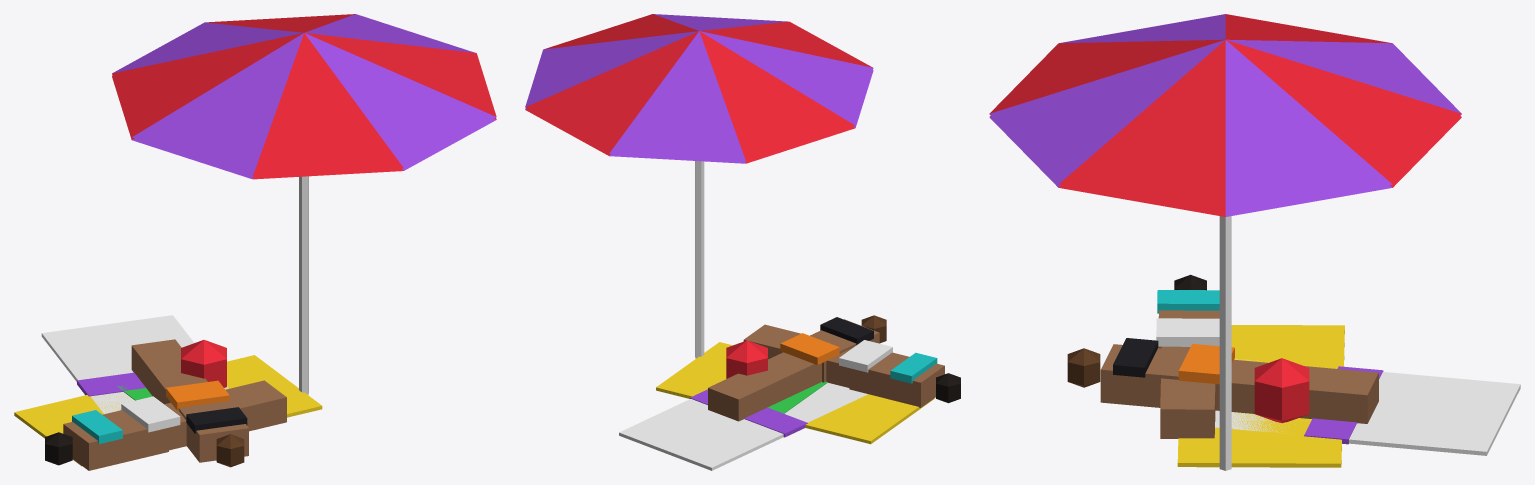
Rendered from playa_grupo_2.obj.
3 views of the same model, side by side, from view 1: azimuth 30°, elevation 25°; view 2: azimuth 150°, elevation 25°; view 3: azimuth 270°, elevation 25° (orthographic). The views are drawn at different scales.
Parts seen in each view (by area): view 1: playa_grupo_2; view 2: playa_grupo_2; view 3: playa_grupo_2.
Boxes of the visible parts, left/top/right/bottom form: playa_grupo_2: left=14, top=14, right=496, bottom=470; playa_grupo_2: left=525, top=14, right=960, bottom=470; playa_grupo_2: left=989, top=14, right=1520, bottom=470.
Size of the model in its own units: 3.36 by 2.6 by 2.92.
